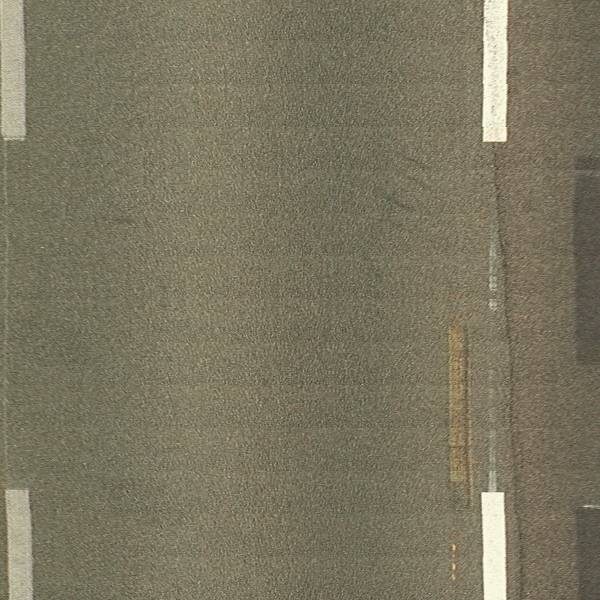road_damage: (488, 143, 526, 493)
